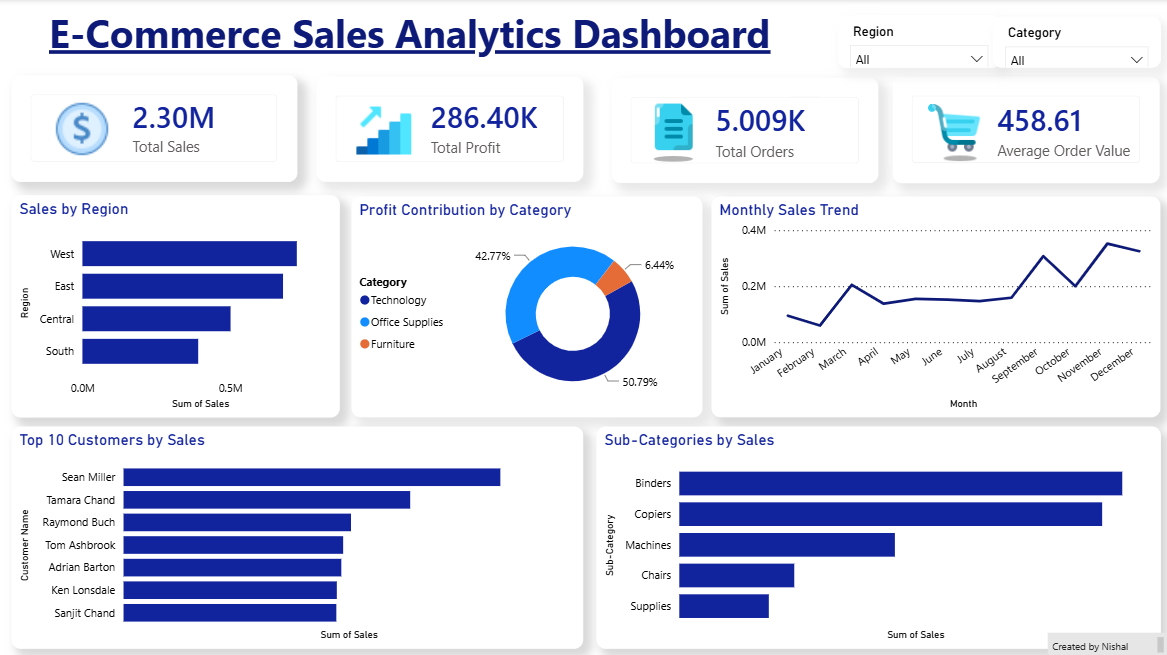

Layout of this report page (visuals, bound fields, positions):
{"tool":"powerbi","page":{"name":"Page 1","canvas":[1280,720],"ordinal":0},"visuals":[{"type":"cardVisual","title":"Total Sales","fields":{"Data":["Sum(Sample - Superstore.Sales)"]},"box":[13.7,83.7,312.9,116.6],"z":0},{"type":"cardVisual","title":"Total Profit","fields":{"Data":["Sum(Sample - Superstore.Profit)"]},"box":[347.2,85.1,292.3,115.3],"z":1000},{"type":"cardVisual","title":"Total Orders","fields":{"Data":["Count(Sample - Superstore.Order ID)"]},"box":[669.6,86.4,292.3,115.3],"z":2000},{"type":"cardVisual","title":"Average Order Value","fields":{"Data":["Sample - Superstore.Average Order Value"]},"box":[978.4,85.1,292.3,116.6],"z":3000},{"type":"clusteredBarChart","title":"Sales by Region","fields":{"Category":["Sample - Superstore.Region"],"Y":["Sum(Sample - Superstore.Sales)"]},"box":[13.7,214.1,359.5,242.9],"z":4000},{"type":"donutChart","title":"Profit Contribution by Category","fields":{"Category":["Sample - Superstore.Category"],"Y":["Sum(Sample - Superstore.Profit)"]},"box":[385.6,215.4,384.2,241.5],"z":5000},{"type":"lineChart","title":"Monthly Sales Trend","fields":{"Y":["Sum(Sample - Superstore.Sales)"],"Category":["Sample - Superstore.Order Date.Variation.Date Hierarchy.Month"]},"box":[779.4,215.4,491.3,241.5],"z":6000},{"type":"barChart","title":"Top 10 Customers by Sales","fields":{"Category":["Sample - Superstore.Customer Name"],"Y":["Sum(Sample - Superstore.Sales)"]},"box":[13.7,467.9,625.7,242.9],"z":7000},{"type":"clusteredBarChart","title":"Sub-Categories by Sales","fields":{"Y":["Sum(Sample - Superstore.Sales)"],"Category":["Sample - Superstore.Sub-Category"]},"box":[653.2,467.9,617.5,242.9],"z":8000},{"type":"slicer","title":"Filter by Region","fields":{"Values":["Sample - Superstore.Region"]},"box":[918,17.8,178.4,57.6],"z":9000},{"type":"slicer","title":"Filter by Category","fields":{"Values":["Sample - Superstore.Category"]},"box":[1086.8,19.2,183.9,56.3],"z":10000},{"type":"textbox","box":[0,0,900.2,75.5],"z":11000},{"type":"textbox","box":[1147.2,693,133.1,27.4],"z":11001}]}

Visuals, with their boxes in screenshot pixels (x1, y1, x2, y2), scaled from the page's 1280x720 canvas onto the 1167x655 screenshot:
"Total Sales" cardVisual: <box>12,76,298,182</box>
"Total Profit" cardVisual: <box>317,77,583,182</box>
"Total Orders" cardVisual: <box>610,79,877,183</box>
"Average Order Value" cardVisual: <box>892,77,1159,183</box>
"Sales by Region" clusteredBarChart: <box>12,195,340,416</box>
"Profit Contribution by Category" donutChart: <box>352,196,702,416</box>
"Monthly Sales Trend" lineChart: <box>711,196,1159,416</box>
"Top 10 Customers by Sales" barChart: <box>12,426,583,647</box>
"Sub-Categories by Sales" clusteredBarChart: <box>596,426,1159,647</box>
"Filter by Region" slicer: <box>837,16,1000,69</box>
"Filter by Category" slicer: <box>991,17,1159,69</box>
textbox: <box>0,0,821,69</box>
textbox: <box>1046,630,1166,654</box>
